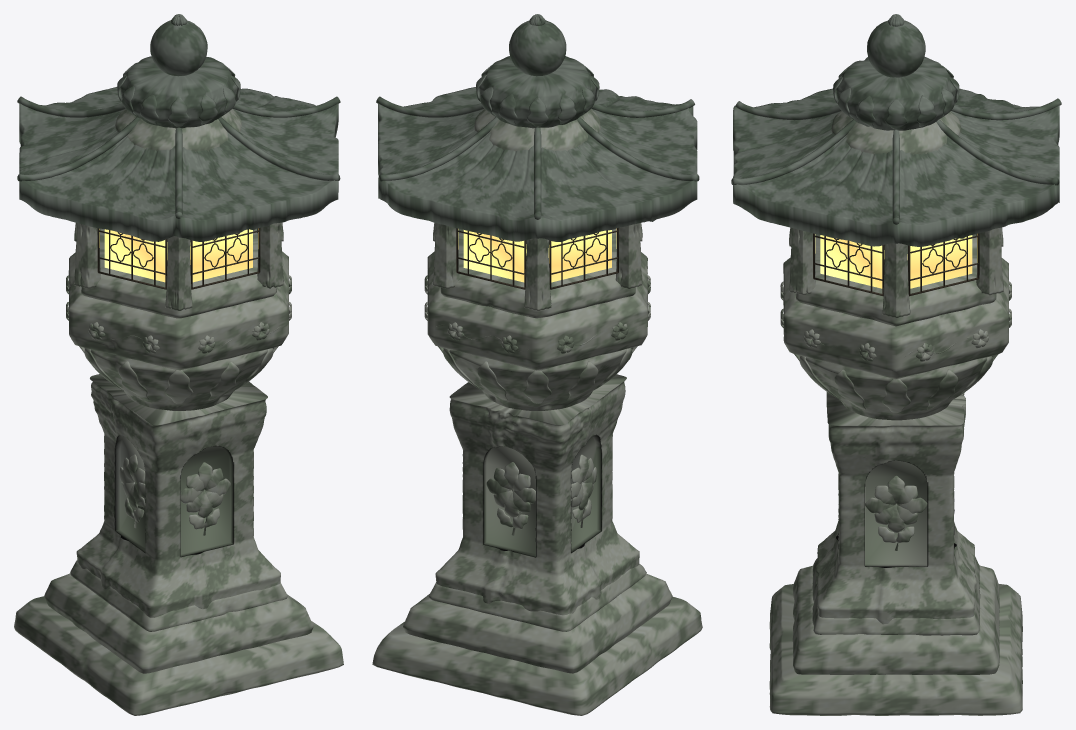
The model's file is toro156.glb.
3 views of the same model, side by side, from view 1: azimuth 30°, elevation 25°; view 2: azimuth 150°, elevation 25°; view 3: azimuth 270°, elevation 25° (orthographic). The views are drawn at different scales.
Parts seen in each view (by area): view 1: Wide curved hexagonal stone kasa: chipped downturned lip.001, Captured weathered shaft:3dlunatic CC-BY4.001, Broad irregular square foot.001, Heavy carved hexagonal platform.001, Chiselled plinth shoulder.001, Fire chamber bottom moulding.001, Lobed lotus crown seat.001, Lower scalloped lotus receiver.001, Shaft lower seated collar.001, Closed stone roof compression boss.001, True spherical worn stone finial.001, Warm recessed window pane3.001 (+12 smaller); view 2: Wide curved hexagonal stone kasa: chipped downturned lip.001, Captured weathered shaft:3dlunatic CC-BY4.001, Broad irregular square foot.001, Heavy carved hexagonal platform.001, Chiselled plinth shoulder.001, Fire chamber bottom moulding.001, Lobed lotus crown seat.001, Lower scalloped lotus receiver.001, Shaft lower seated collar.001, Closed stone roof compression boss.001, True spherical worn stone finial.001, Warm recessed window pane1.001 (+12 smaller); view 3: Wide curved hexagonal stone kasa: chipped downturned lip.001, Captured weathered shaft:3dlunatic CC-BY4.001, Broad irregular square foot.001, Heavy carved hexagonal platform.001, Chiselled plinth shoulder.001, Fire chamber bottom moulding.001, Lobed lotus crown seat.001, Lower scalloped lotus receiver.001, Shaft lower seated collar.001, Closed stone roof compression boss.001, True spherical worn stone finial.001, Warm recessed window pane5.001 (+12 smaller).
Part boxes in pixels (x1,y1,x2,y2): Wide curved hexagonal stone kasa: chipped downturned lip.001: (19, 87, 338, 241); Captured weathered shaft:3dlunatic CC-BY4.001: (76, 374, 280, 617); Broad irregular square foot.001: (14, 596, 343, 715); Heavy carved hexagonal platform.001: (68, 251, 288, 370); Chiselled plinth shoulder.001: (44, 573, 313, 673); Fire chamber bottom moulding.001: (81, 228, 276, 318); Lobed lotus crown seat.001: (120, 56, 237, 128); Lower scalloped lotus receiver.001: (84, 347, 273, 410); Shaft lower seated collar.001: (70, 560, 287, 631); Closed stone roof compression boss.001: (115, 109, 241, 151); True spherical worn stone finial.001: (150, 20, 207, 76); Warm recessed window pane3.001: (104, 229, 167, 282); Wide curved hexagonal stone kasa: chipped downturned lip.001: (378, 87, 697, 241); Captured weathered shaft:3dlunatic CC-BY4.001: (435, 374, 639, 615); Broad irregular square foot.001: (372, 597, 702, 715); Heavy carved hexagonal platform.001: (427, 251, 647, 370); Chiselled plinth shoulder.001: (403, 573, 672, 673); Fire chamber bottom moulding.001: (440, 229, 635, 318); Lobed lotus crown seat.001: (479, 56, 595, 128); Lower scalloped lotus receiver.001: (443, 347, 633, 410); Shaft lower seated collar.001: (428, 564, 646, 631); Closed stone roof compression boss.001: (474, 109, 600, 151); True spherical worn stone finial.001: (509, 20, 566, 76); Warm recessed window pane1.001: (463, 230, 526, 282); Wide curved hexagonal stone kasa: chipped downturned lip.001: (733, 88, 1059, 246); Captured weathered shaft:3dlunatic CC-BY4.001: (816, 392, 976, 624); Broad irregular square foot.001: (769, 584, 1022, 715); Heavy carved hexagonal platform.001: (783, 257, 1008, 379); Chiselled plinth shoulder.001: (792, 565, 999, 674); Fire chamber bottom moulding.001: (796, 234, 996, 326); Lobed lotus crown seat.001: (836, 56, 955, 130); Lower scalloped lotus receiver.001: (798, 355, 992, 420); Shaft lower seated collar.001: (812, 556, 980, 635); Closed stone roof compression boss.001: (831, 111, 961, 154); True spherical worn stone finial.001: (867, 20, 925, 77); Warm recessed window pane5.001: (820, 235, 884, 288).
Bounding box in the file's own units: 2.13 × 4.05 × 1.86.
